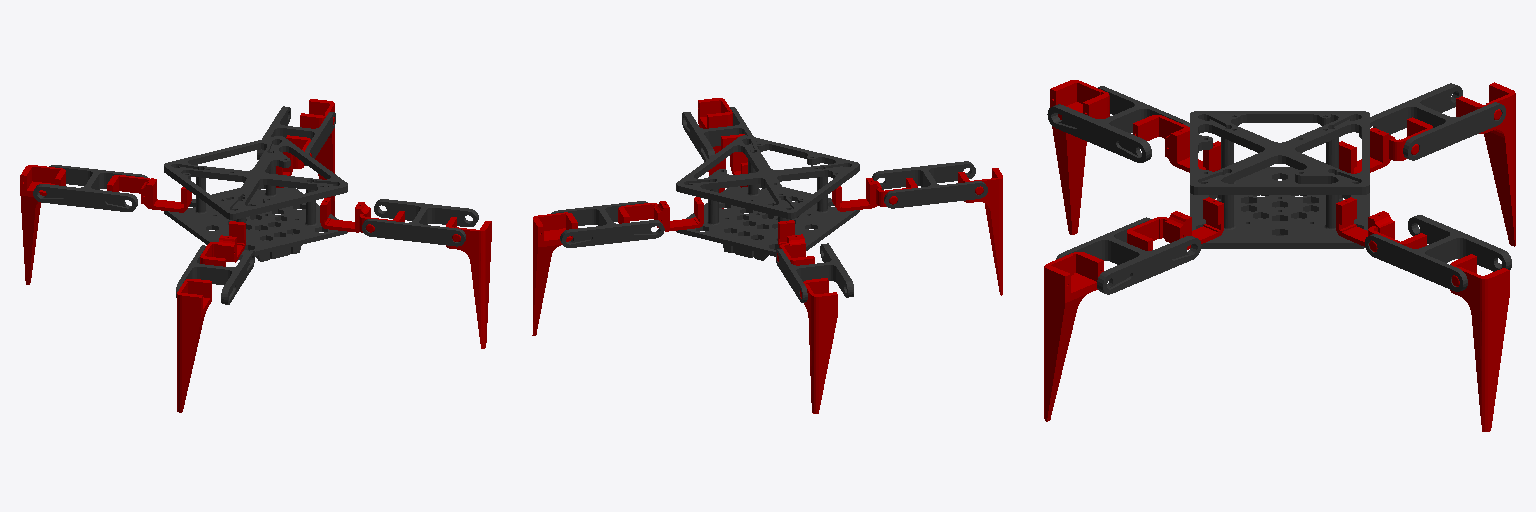
The robot description file, URDF, robot "spidey":
<?xml version="1.0" encoding="utf-8"?>
<!-- This URDF was automatically created by SolidWorks to URDF Exporter! Originally created by [author] ([email redacted]) 
     Commit Version: 1.6.0-1-g15f4949  Build Version: 1.6.7594.29634
     For more information, please see http://wiki.ros.org/sw_urdf_exporter -->
<robot
  name="spidey">
  <link
    name="base_link">
    <inertial>
      <origin
        xyz="4.17901123495948E-05 -0.000193636356481966 0.0894913595711994"
        rpy="0 0 0" />
      <mass
        value="0.117924372960691" />
      <inertia
        ixx="0.000102932488829953"
        ixy="-9.63420593853609E-07"
        ixz="-2.02132312411461E-09"
        iyy="8.92346469386853E-05"
        iyz="4.58614714148341E-11"
        izz="0.000185817181019725" />
    </inertial>
    <visual>
      <origin
        xyz="0 0 0"
        rpy="0 0 0" />
      <geometry>
        <mesh
          filename="base_link.obj" />
      </geometry>
      <material
        name="">
        <color
          rgba="0.250980392156863 0.250980392156863 0.250980392156863 1" />
      </material>
    </visual>
    <collision>
      <origin
        xyz="0 0 0"
        rpy="0 0 0" />
      <geometry>
        <mesh
          filename="base_link.obj" />
      </geometry>
    </collision>
  </link>
  <link
    name="leg1_link1">
    <inertial>
      <origin
        xyz="-0.022108937837177 -0.0132421365474836 0.00314002313535409"
        rpy="0 0 0" />
      <mass
        value="0.00723872418872688" />
      <inertia
        ixx="5.22774747679676E-07"
        ixy="-1.49834845338892E-07"
        ixz="3.6805593515317E-07"
        iyy="3.27257999855942E-06"
        iyz="2.85909361784707E-08"
        izz="3.21653958635831E-06" />
    </inertial>
    <visual>
      <origin
        xyz="0 0 0"
        rpy="0 0 0" />
      <geometry>
        <mesh
          filename="leg1_link1.obj" />
      </geometry>
      <material
        name="">
        <color
          rgba="0.752941176470588 0 0 1" />
      </material>
    </visual>
    <collision>
      <origin
        xyz="0 0 0"
        rpy="0 0 0" />
      <geometry>
        <mesh
          filename="leg1_link1.obj" />
      </geometry>
    </collision>
  </link>
  <joint
    name="leg1_joint1"
    type="revolute">
    <origin
      xyz="0.046464 -0.046464 0.0821"
      rpy="-1.5708 0 2.3562" />
    <parent
      link="base_link" />
    <child
      link="leg1_link1" />
    <axis
      xyz="0 1 0" />
    <limit
      lower="-1.74533"
      upper="1.39626"
      effort="15"
      velocity="7" />
  </joint>
  <link
    name="leg1_link2">
    <inertial>
      <origin
        xyz="0.0355 -6.93889390390723E-18 -0.00424439919105857"
        rpy="0 0 0" />
      <mass
        value="0.0122900929113511" />
      <inertia
        ixx="3.89424770122985E-06"
        ixy="4.38413027053517E-22"
        ixz="1.48230765769503E-21"
        iyy="8.48053814353777E-06"
        iyz="7.0606481389755E-22"
        izz="5.00726458223547E-06" />
    </inertial>
    <visual>
      <origin
        xyz="0 0 0"
        rpy="0 0 0" />
      <geometry>
        <mesh
          filename="leg1_link2.obj" />
      </geometry>
      <material
        name="">
        <color
          rgba="0.250980392156863 0.250980392156863 0.250980392156863 1" />
      </material>
    </visual>
    <collision>
      <origin
        xyz="0 0 0"
        rpy="0 0 0" />
      <geometry>
        <mesh
          filename="leg1_link2.obj" />
      </geometry>
    </collision>
  </link>
  <joint
    name="leg1_joint2"
    type="revolute">
    <origin
      xyz="-0.033 -0.0145 0"
      rpy="0 0 3.1416" />
    <parent
      link="leg1_link1" />
    <child
      link="leg1_link2" />
    <axis
      xyz="0 0 1" />
    <limit
      lower="-1.5708"
      upper="2.35619"
      effort="15"
      velocity="7" />
  </joint>
  <link
    name="leg1_link3">
    <inertial>
      <origin
        xyz="-0.0119414613806721 0.00574131595236861 -0.0233720198168789"
        rpy="0 0 0" />
      <mass
        value="0.0168535864832978" />
      <inertia
        ixx="9.00062618488712E-06"
        ixy="5.26664899139276E-08"
        ixz="-1.77596400601993E-06"
        iyy="9.92645327766751E-06"
        iyz="4.40450718188812E-07"
        izz="2.02787228352354E-06" />
    </inertial>
    <visual>
      <origin
        xyz="0 0 0"
        rpy="0 0 0" />
      <geometry>
        <mesh
          filename="leg1_link3.obj" />
      </geometry>
      <material
        name="">
        <color
          rgba="0.752941176470588 0 0 1" />
      </material>
    </visual>
    <collision>
      <origin
        xyz="0 0 0"
        rpy="0 0 0" />
      <geometry>
        <mesh
          filename="leg1_link3.obj" />
      </geometry>
    </collision>
  </link>
  <joint
    name="leg1_joint3"
    type="revolute">
    <origin
      xyz="0.071 0 0"
      rpy="1.5708 0 3.1416" />
    <parent
      link="leg1_link2" />
    <child
      link="leg1_link3" />
    <axis
      xyz="0 1 0" />
    <limit
      lower="-1.39626"
      upper="1.5708"
      effort="15"
      velocity="7" />
  </joint>
  <link
    name="leg1_link3_tip">
    <inertial>
      <origin
        xyz="-0.00123745228213162 5.00000000000084E-05 -0.00181663716020534"
        rpy="0 0 0" />
      <mass
        value="9.90841781413794E-07" />
      <inertia
        ixx="1.31973845371642E-12"
        ixy="9.25239285899653E-30"
        ixz="3.14914107837011E-13"
        iyy="1.93826926659808E-12"
        iyz="-6.61960872038841E-31"
        izz="6.20182215850679E-13" />
    </inertial>
    <visual>
      <origin
        xyz="0 0 0"
        rpy="0 0 0" />
      <geometry>
        <mesh
          filename="leg1_link3_tip.obj" />
      </geometry>
      <material
        name="">
        <color
          rgba="0.752941176470588 0 0 1" />
      </material>
    </visual>
    <collision>
      <origin
        xyz="0 0 0"
        rpy="0 0 0" />
      <geometry>
        <mesh
          filename="leg1_link3_tip.obj" />
      </geometry>
    </collision>
  </link>
  <joint
    name="leg1_joint3_tip"
    type="fixed">
    <origin
      xyz="-0.019 0.0095 -0.0966"
      rpy="1.5708 0 0" />
    <parent
      link="leg1_link3" />
    <child
      link="leg1_link3_tip" />
    <axis
      xyz="0 0 0" />
  </joint>
  <link
    name="leg2_link1">
    <inertial>
      <origin
        xyz="-0.022108937837177 -0.0132421365474836 0.00314002313535408"
        rpy="0 0 0" />
      <mass
        value="0.00723872418872687" />
      <inertia
        ixx="5.22774747679675E-07"
        ixy="-1.49834845338892E-07"
        ixz="3.6805593515317E-07"
        iyy="3.27257999855941E-06"
        iyz="2.85909361784708E-08"
        izz="3.2165395863583E-06" />
    </inertial>
    <visual>
      <origin
        xyz="0 0 0"
        rpy="0 0 0" />
      <geometry>
        <mesh
          filename="leg2_link1.obj" />
      </geometry>
      <material
        name="">
        <color
          rgba="0.752941176470588 0 0 1" />
      </material>
    </visual>
    <collision>
      <origin
        xyz="0 0 0"
        rpy="0 0 0" />
      <geometry>
        <mesh
          filename="leg2_link1.obj" />
      </geometry>
    </collision>
  </link>
  <joint
    name="leg2_joint1"
    type="revolute">
    <origin
      xyz="0.046464 0.046464 0.0821"
      rpy="-1.5708 0 -2.3562" />
    <parent
      link="base_link" />
    <child
      link="leg2_link1" />
    <axis
      xyz="0 1 0" />
    <limit
      lower="-1.74533"
      upper="1.39626"
      effort="15"
      velocity="7" />
  </joint>
  <link
    name="leg2_link2">
    <inertial>
      <origin
        xyz="0.0355 0 -0.0042443991910585"
        rpy="0 0 0" />
      <mass
        value="0.0122900929113511" />
      <inertia
        ixx="3.89424770122985E-06"
        ixy="1.23757276075668E-21"
        ixz="2.11758236813575E-21"
        iyy="8.48053814353775E-06"
        iyz="2.66262005200978E-22"
        izz="5.00726458223546E-06" />
    </inertial>
    <visual>
      <origin
        xyz="0 0 0"
        rpy="0 0 0" />
      <geometry>
        <mesh
          filename="leg2_link2.obj" />
      </geometry>
      <material
        name="">
        <color
          rgba="0.250980392156863 0.250980392156863 0.250980392156863 1" />
      </material>
    </visual>
    <collision>
      <origin
        xyz="0 0 0"
        rpy="0 0 0" />
      <geometry>
        <mesh
          filename="leg2_link2.obj" />
      </geometry>
    </collision>
  </link>
  <joint
    name="leg2_joint2"
    type="revolute">
    <origin
      xyz="-0.033 -0.0145 0"
      rpy="0 0 3.1416" />
    <parent
      link="leg2_link1" />
    <child
      link="leg2_link2" />
    <axis
      xyz="0 0 1" />
    <limit
      lower="-1.5708"
      upper="2.35619"
      effort="15"
      velocity="7" />
  </joint>
  <link
    name="leg2_link3">
    <inertial>
      <origin
        xyz="-0.0119414613806721 0.00574131595236858 -0.023372019816879"
        rpy="0 0 0" />
      <mass
        value="0.0168535864832979" />
      <inertia
        ixx="9.0006261848872E-06"
        ixy="5.2666489913928E-08"
        ixz="-1.77596400601994E-06"
        iyy="9.92645327766759E-06"
        iyz="4.40450718188823E-07"
        izz="2.02787228352354E-06" />
    </inertial>
    <visual>
      <origin
        xyz="0 0 0"
        rpy="0 0 0" />
      <geometry>
        <mesh
          filename="leg2_link3.obj" />
      </geometry>
      <material
        name="">
        <color
          rgba="0.752941176470588 0 0 1" />
      </material>
    </visual>
    <collision>
      <origin
        xyz="0 0 0"
        rpy="0 0 0" />
      <geometry>
        <mesh
          filename="leg2_link3.obj" />
      </geometry>
    </collision>
  </link>
  <joint
    name="leg2_joint3"
    type="revolute">
    <origin
      xyz="0.071 0 0"
      rpy="1.5708 0 3.1416" />
    <parent
      link="leg2_link2" />
    <child
      link="leg2_link3" />
    <axis
      xyz="0 1 0" />
    <limit
      lower="-1.39626"
      upper="1.5708"
      effort="15"
      velocity="7" />
  </joint>
  <link
    name="leg2_link3_tip">
    <inertial>
      <origin
        xyz="-0.00123745228213168 4.99999999999945E-05 -0.00181663716020532"
        rpy="0 0 0" />
      <mass
        value="9.90841781413787E-07" />
      <inertia
        ixx="1.31973845371641E-12"
        ixy="6.36413057061503E-29"
        ixz="3.14914107837001E-13"
        iyy="1.93826926659805E-12"
        iyz="-9.86813689522352E-29"
        izz="6.20182215850666E-13" />
    </inertial>
    <visual>
      <origin
        xyz="0 0 0"
        rpy="0 0 0" />
      <geometry>
        <mesh
          filename="leg2_link3_tip.obj" />
      </geometry>
      <material
        name="">
        <color
          rgba="0.752941176470588 0 0 1" />
      </material>
    </visual>
    <collision>
      <origin
        xyz="0 0 0"
        rpy="0 0 0" />
      <geometry>
        <mesh
          filename="leg2_link3_tip.obj" />
      </geometry>
    </collision>
  </link>
  <joint
    name="leg2_joint3_tip"
    type="fixed">
    <origin
      xyz="-0.019 0.0095 -0.0966"
      rpy="1.5708 0 0" />
    <parent
      link="leg2_link3" />
    <child
      link="leg2_link3_tip" />
    <axis
      xyz="0 0 0" />
  </joint>
  <link
    name="leg3_link1">
    <inertial>
      <origin
        xyz="-0.022108937837177 -0.0132421365474836 0.00314002313535407"
        rpy="0 0 0" />
      <mass
        value="0.00723872418872689" />
      <inertia
        ixx="5.22774747679675E-07"
        ixy="-1.49834845338892E-07"
        ixz="3.68055935153169E-07"
        iyy="3.27257999855942E-06"
        iyz="2.85909361784709E-08"
        izz="3.2165395863583E-06" />
    </inertial>
    <visual>
      <origin
        xyz="0 0 0"
        rpy="0 0 0" />
      <geometry>
        <mesh
          filename="leg3_link1.obj" />
      </geometry>
      <material
        name="">
        <color
          rgba="0.752941176470588 0 0 1" />
      </material>
    </visual>
    <collision>
      <origin
        xyz="0 0 0"
        rpy="0 0 0" />
      <geometry>
        <mesh
          filename="leg3_link1.obj" />
      </geometry>
    </collision>
  </link>
  <joint
    name="leg3_joint1"
    type="revolute">
    <origin
      xyz="-0.046464 -0.046464 0.0821"
      rpy="-1.5708 0 0.7854" />
    <parent
      link="base_link" />
    <child
      link="leg3_link1" />
    <axis
      xyz="0 1 0" />
    <limit
      lower="-1.74533"
      upper="1.39626"
      effort="15"
      velocity="7" />
  </joint>
  <link
    name="leg3_link2">
    <inertial>
      <origin
        xyz="0.0355 0 -0.00424439919105854"
        rpy="0 0 0" />
      <mass
        value="0.0122900929113511" />
      <inertia
        ixx="3.89424770122985E-06"
        ixy="-5.43649474491498E-22"
        ixz="-6.35274710440725E-21"
        iyy="8.48053814353775E-06"
        iyz="-1.34889793614773E-22"
        izz="5.00726458223546E-06" />
    </inertial>
    <visual>
      <origin
        xyz="0 0 0"
        rpy="0 0 0" />
      <geometry>
        <mesh
          filename="leg3_link2.obj" />
      </geometry>
      <material
        name="">
        <color
          rgba="0.250980392156863 0.250980392156863 0.250980392156863 1" />
      </material>
    </visual>
    <collision>
      <origin
        xyz="0 0 0"
        rpy="0 0 0" />
      <geometry>
        <mesh
          filename="leg3_link2.obj" />
      </geometry>
    </collision>
  </link>
  <joint
    name="leg3_joint2"
    type="revolute">
    <origin
      xyz="-0.033 -0.0145 0"
      rpy="0 0 3.1416" />
    <parent
      link="leg3_link1" />
    <child
      link="leg3_link2" />
    <axis
      xyz="0 0 1" />
    <limit
      lower="-1.5708"
      upper="2.35619"
      effort="15"
      velocity="7" />
  </joint>
  <link
    name="leg3_link3">
    <inertial>
      <origin
        xyz="-0.0119414613806721 0.00574131595236865 -0.023372019816879"
        rpy="0 0 0" />
      <mass
        value="0.0168535864832979" />
      <inertia
        ixx="9.00062618488723E-06"
        ixy="5.26664899139306E-08"
        ixz="-1.77596400601993E-06"
        iyy="9.92645327766761E-06"
        iyz="4.40450718188821E-07"
        izz="2.02787228352354E-06" />
    </inertial>
    <visual>
      <origin
        xyz="0 0 0"
        rpy="0 0 0" />
      <geometry>
        <mesh
          filename="leg3_link3.obj" />
      </geometry>
      <material
        name="">
        <color
          rgba="0.752941176470588 0 0 1" />
      </material>
    </visual>
    <collision>
      <origin
        xyz="0 0 0"
        rpy="0 0 0" />
      <geometry>
        <mesh
          filename="leg3_link3.obj" />
      </geometry>
    </collision>
  </link>
  <joint
    name="leg3_joint3"
    type="revolute">
    <origin
      xyz="0.071 0 0"
      rpy="1.5708 0 3.1416" />
    <parent
      link="leg3_link2" />
    <child
      link="leg3_link3" />
    <axis
      xyz="0 1 0" />
    <limit
      lower="-1.39626"
      upper="1.5708"
      effort="15"
      velocity="7" />
  </joint>
  <link
    name="leg3_link3_tip">
    <inertial>
      <origin
        xyz="-0.00123745228213162 5.00000000000014E-05 -0.00181663716020536"
        rpy="0 0 0" />
      <mass
        value="9.9084178141379E-07" />
      <inertia
        ixx="1.31973845371641E-12"
        ixy="3.09429100946932E-29"
        ixz="3.14914107837003E-13"
        iyy="1.93826926659806E-12"
        iyz="-2.88941907834146E-29"
        izz="6.20182215850672E-13" />
    </inertial>
    <visual>
      <origin
        xyz="0 0 0"
        rpy="0 0 0" />
      <geometry>
        <mesh
          filename="leg3_link3_tip.obj" />
      </geometry>
      <material
        name="">
        <color
          rgba="0.752941176470588 0 0 1" />
      </material>
    </visual>
    <collision>
      <origin
        xyz="0 0 0"
        rpy="0 0 0" />
      <geometry>
        <mesh
          filename="leg3_link3_tip.obj" />
      </geometry>
    </collision>
  </link>
  <joint
    name="leg3_joint3_tip"
    type="fixed">
    <origin
      xyz="-0.019 0.0095 -0.0966"
      rpy="1.5708 0 0" />
    <parent
      link="leg3_link3" />
    <child
      link="leg3_link3_tip" />
    <axis
      xyz="0 0 0" />
  </joint>
  <link
    name="leg4_link1">
    <inertial>
      <origin
        xyz="-0.022108937837177 -0.0132421365474836 0.00314002313535406"
        rpy="0 0 0" />
      <mass
        value="0.00723872418872688" />
      <inertia
        ixx="5.22774747679676E-07"
        ixy="-1.49834845338892E-07"
        ixz="3.68055935153169E-07"
        iyy="3.27257999855942E-06"
        iyz="2.85909361784708E-08"
        izz="3.21653958635831E-06" />
    </inertial>
    <visual>
      <origin
        xyz="0 0 0"
        rpy="0 0 0" />
      <geometry>
        <mesh
          filename="leg4_link1.obj" />
      </geometry>
      <material
        name="">
        <color
          rgba="0.752941176470588 0 0 1" />
      </material>
    </visual>
    <collision>
      <origin
        xyz="0 0 0"
        rpy="0 0 0" />
      <geometry>
        <mesh
          filename="leg4_link1.obj" />
      </geometry>
    </collision>
  </link>
  <joint
    name="leg4_joint1"
    type="revolute">
    <origin
      xyz="-0.046464 0.046464 0.0821"
      rpy="-1.5708 0 -0.7854" />
    <parent
      link="base_link" />
    <child
      link="leg4_link1" />
    <axis
      xyz="0 1 0" />
    <limit
      lower="-1.74533"
      upper="1.39626"
      effort="15"
      velocity="7" />
  </joint>
  <link
    name="leg4_link2">
    <inertial>
      <origin
        xyz="0.0355 0 -0.00424439919105854"
        rpy="0 0 0" />
      <mass
        value="0.0122900929113511" />
      <inertia
        ixx="3.89424770122986E-06"
        ixy="1.16804998458628E-23"
        ixz="4.2351647362715E-22"
        iyy="8.48053814353777E-06"
        iyz="2.78693654281205E-22"
        izz="5.00726458223547E-06" />
    </inertial>
    <visual>
      <origin
        xyz="0 0 0"
        rpy="0 0 0" />
      <geometry>
        <mesh
          filename="leg4_link2.obj" />
      </geometry>
      <material
        name="">
        <color
          rgba="0.250980392156863 0.250980392156863 0.250980392156863 1" />
      </material>
    </visual>
    <collision>
      <origin
        xyz="0 0 0"
        rpy="0 0 0" />
      <geometry>
        <mesh
          filename="leg4_link2.obj" />
      </geometry>
    </collision>
  </link>
  <joint
    name="leg4_joint2"
    type="revolute">
    <origin
      xyz="-0.033 -0.0145 0"
      rpy="0 0 3.1416" />
    <parent
      link="leg4_link1" />
    <child
      link="leg4_link2" />
    <axis
      xyz="0 0 1" />
    <limit
      lower="-1.5708"
      upper="2.35619"
      effort="15"
      velocity="7" />
  </joint>
  <link
    name="leg4_link3">
    <inertial>
      <origin
        xyz="-0.0119414613806721 0.00574131595236852 -0.023372019816879"
        rpy="0 0 0" />
      <mass
        value="0.0168535864832979" />
      <inertia
        ixx="9.00062618488721E-06"
        ixy="5.26664899139285E-08"
        ixz="-1.77596400601994E-06"
        iyy="9.92645327766759E-06"
        iyz="4.40450718188824E-07"
        izz="2.02787228352354E-06" />
    </inertial>
    <visual>
      <origin
        xyz="0 0 0"
        rpy="0 0 0" />
      <geometry>
        <mesh
          filename="leg4_link3.obj" />
      </geometry>
      <material
        name="">
        <color
          rgba="0.752941176470588 0 0 1" />
      </material>
    </visual>
    <collision>
      <origin
        xyz="0 0 0"
        rpy="0 0 0" />
      <geometry>
        <mesh
          filename="leg4_link3.obj" />
      </geometry>
    </collision>
  </link>
  <joint
    name="leg4_joint3"
    type="revolute">
    <origin
      xyz="0.071 0 0"
      rpy="1.5708 0 3.1416" />
    <parent
      link="leg4_link2" />
    <child
      link="leg4_link3" />
    <axis
      xyz="0 1 0" />
    <limit
      lower="-1.39626"
      upper="1.5708"
      effort="15"
      velocity="7" />
  </joint>
  <link
    name="leg4_link3_tip">
    <inertial>
      <origin
        xyz="-0.00123745228213169 5.00000000000014E-05 -0.00181663716020532"
        rpy="0 0 0" />
      <mass
        value="9.90841781413788E-07" />
      <inertia
        ixx="1.31973845371641E-12"
        ixy="-3.49299266851849E-30"
        ixz="3.14914107837004E-13"
        iyy="1.93826926659805E-12"
        iyz="1.32369724924107E-29"
        izz="6.20182215850664E-13" />
    </inertial>
    <visual>
      <origin
        xyz="0 0 0"
        rpy="0 0 0" />
      <geometry>
        <mesh
          filename="leg4_link3_tip.obj" />
      </geometry>
      <material
        name="">
        <color
          rgba="0.752941176470588 0 0 1" />
      </material>
    </visual>
    <collision>
      <origin
        xyz="0 0 0"
        rpy="0 0 0" />
      <geometry>
        <mesh
          filename="leg4_link3_tip.obj" />
      </geometry>
    </collision>
  </link>
  <joint
    name="leg4_joint3_tip"
    type="fixed">
    <origin
      xyz="-0.019 0.0095 -0.0966"
      rpy="1.5708 0 0" />
    <parent
      link="leg4_link3" />
    <child
      link="leg4_link3_tip" />
    <axis
      xyz="0 0 0" />
  </joint>
</robot>

--- Facts derived from the render (not from the file) ---
3 views of the same robot in one strip: view 1: azimuth 30°, elevation 25°; view 2: azimuth 150°, elevation 25°; view 3: azimuth 270°, elevation 25° (orthographic).
Robot: spidey — 17 links, 16 joints (12 revolute, 4 fixed); root link base_link; default pose: every joint at zero.
Visible links, largest first — view 1: base_link, leg1_link2, leg4_link2, leg3_link3, leg1_link3, leg4_link3, leg3_link2, leg4_link1, leg2_link2, leg2_link3, leg3_link1, leg1_link1 (+1 smaller); view 2: base_link, leg3_link2, leg4_link3, leg2_link2, leg2_link3, leg4_link2, leg3_link3, leg2_link1, leg1_link2, leg3_link1, leg1_link3, leg4_link1 (+1 smaller); view 3: base_link, leg2_link2, leg2_link3, leg1_link3, leg4_link2, leg1_link2, leg3_link2, leg3_link3, leg4_link3, leg1_link1, leg3_link1, leg4_link1 (+1 smaller).
Boxes of the visible links, box(x1,y1,x2,y2) form: base_link: box(164, 136, 347, 261); leg1_link2: box(362, 199, 478, 246); leg4_link2: box(33, 165, 147, 211); leg3_link3: box(177, 279, 211, 412); leg1_link3: box(446, 217, 491, 348); leg4_link3: box(20, 165, 65, 284); leg3_link2: box(176, 245, 254, 304); leg4_link1: box(107, 175, 191, 212); leg2_link2: box(257, 106, 335, 165); leg2_link3: box(300, 99, 334, 216); leg3_link1: box(200, 221, 245, 266); leg1_link1: box(320, 198, 404, 232); base_link: box(676, 135, 859, 260); leg3_link2: box(872, 161, 987, 208); leg4_link3: box(800, 278, 837, 413); leg2_link2: box(551, 201, 664, 247); leg2_link3: box(533, 212, 577, 335); leg4_link2: box(775, 243, 853, 302); leg3_link3: box(958, 168, 1002, 295); leg2_link1: box(618, 197, 703, 231); leg1_link2: box(682, 107, 753, 161); leg3_link1: box(832, 178, 917, 211); leg1_link3: box(698, 98, 732, 208); leg4_link1: box(777, 220, 814, 265); base_link: box(1190, 111, 1369, 248); leg2_link2: box(1365, 215, 1511, 291); leg2_link3: box(1450, 254, 1509, 431); leg1_link3: box(1044, 252, 1103, 420); leg4_link2: box(1359, 83, 1505, 160); leg1_link2: box(1056, 217, 1201, 294); leg3_link2: box(1047, 86, 1189, 162); leg3_link3: box(1050, 80, 1109, 234); leg4_link3: box(1456, 82, 1515, 246); leg1_link1: box(1127, 197, 1223, 250); leg3_link1: box(1133, 115, 1220, 172); leg4_link1: box(1339, 117, 1432, 173).
Size in the robot's own frame: 0.2875 by 0.2875 by 0.1236 metres.
17 mesh visuals loaded from 17 distinct referenced files (17 OBJ).